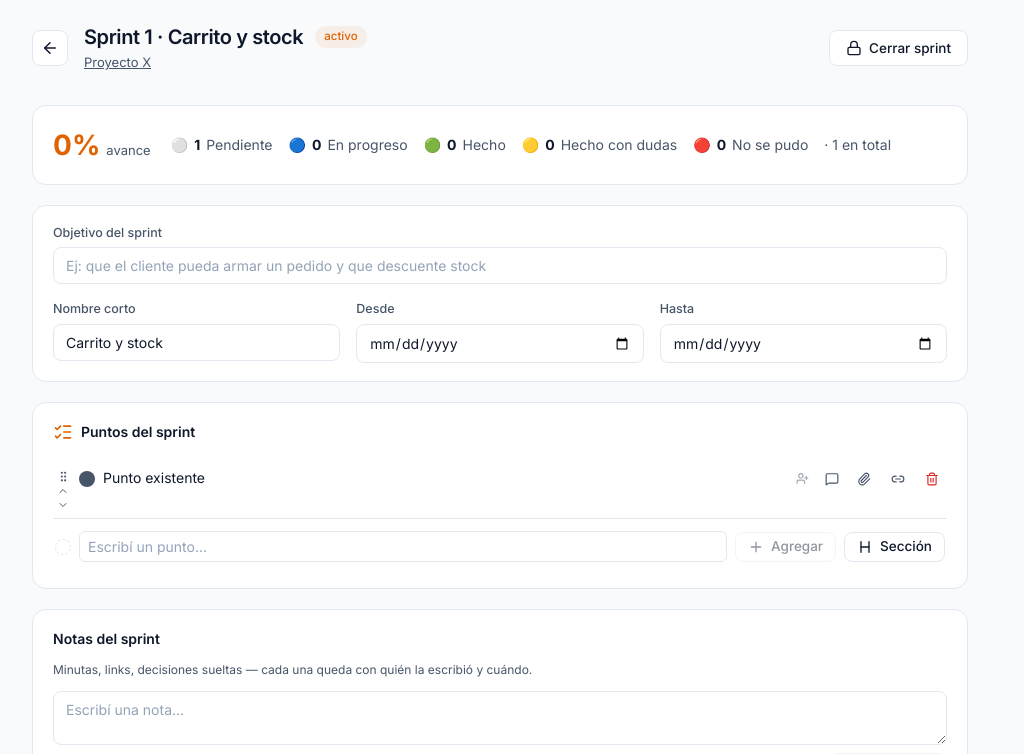
Test: SprintDetalle — notas › agregar una nota la manda con autor y la muestra primera en la lista
Type "Quedó pendiente el checkout." into the text box with placeholder "Escribí una nota…".
click(500, 718); type("Quedó pendiente el checkout.")  # box left=53, top=691, right=947, bottom=745
(page scrolled)
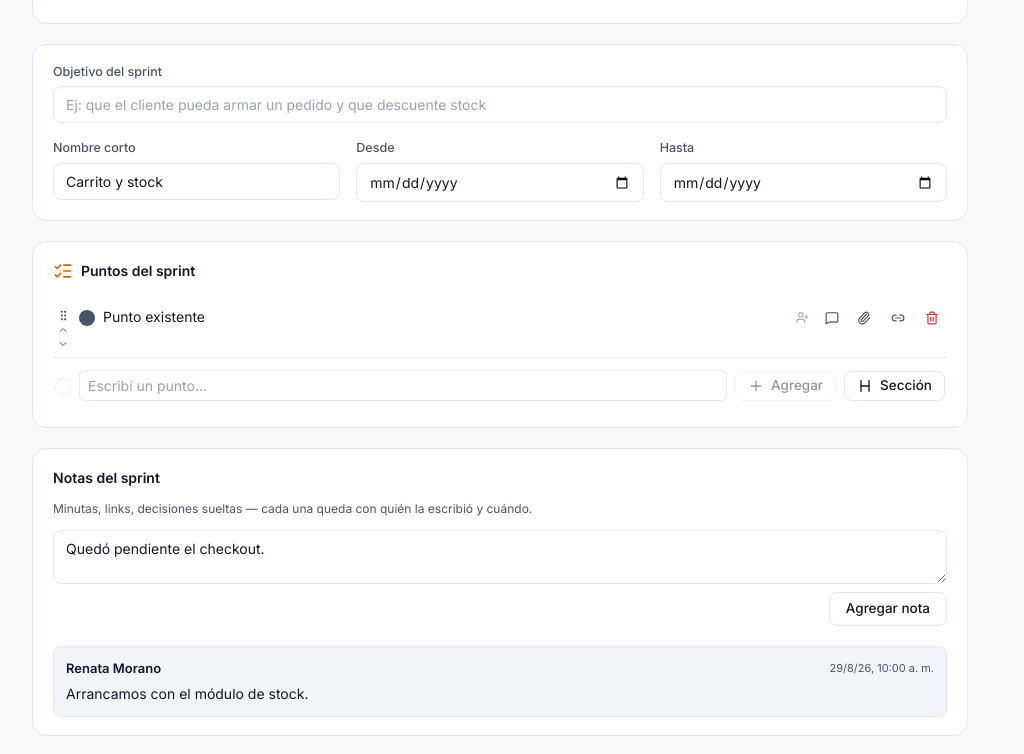
Click the button "Agregar nota".
click(888, 609)  # box left=829, top=592, right=947, bottom=626
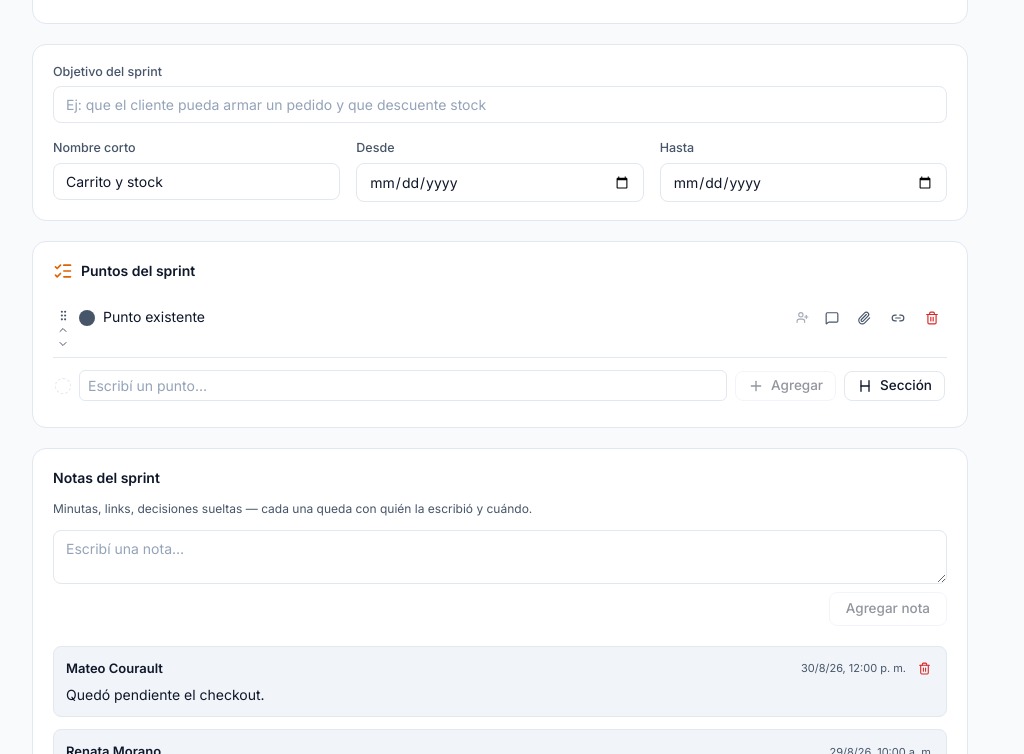
Expected: the text box "Quedó pendiente el checkout." is empty, left=53, top=530, right=947, bottom=584
Expected: the element with test id "nota-item" shows "Quedó pendiente el checkout.", left=66, top=686, right=265, bottom=702
